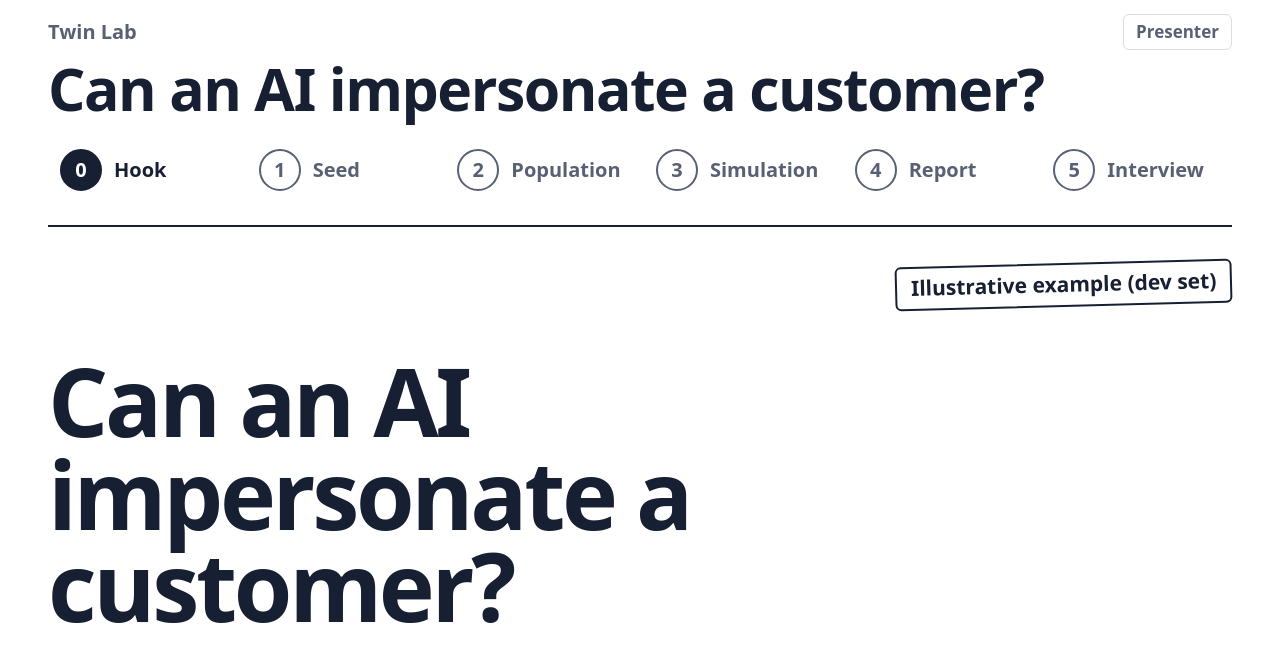
Test case: Step 1 Seed › says when there is no data and disables building
The width and height of the screenshot is (1280, 660).
Click the button "1 Seed" at (342, 170), box [247,139,437,201]
(page scrolled)
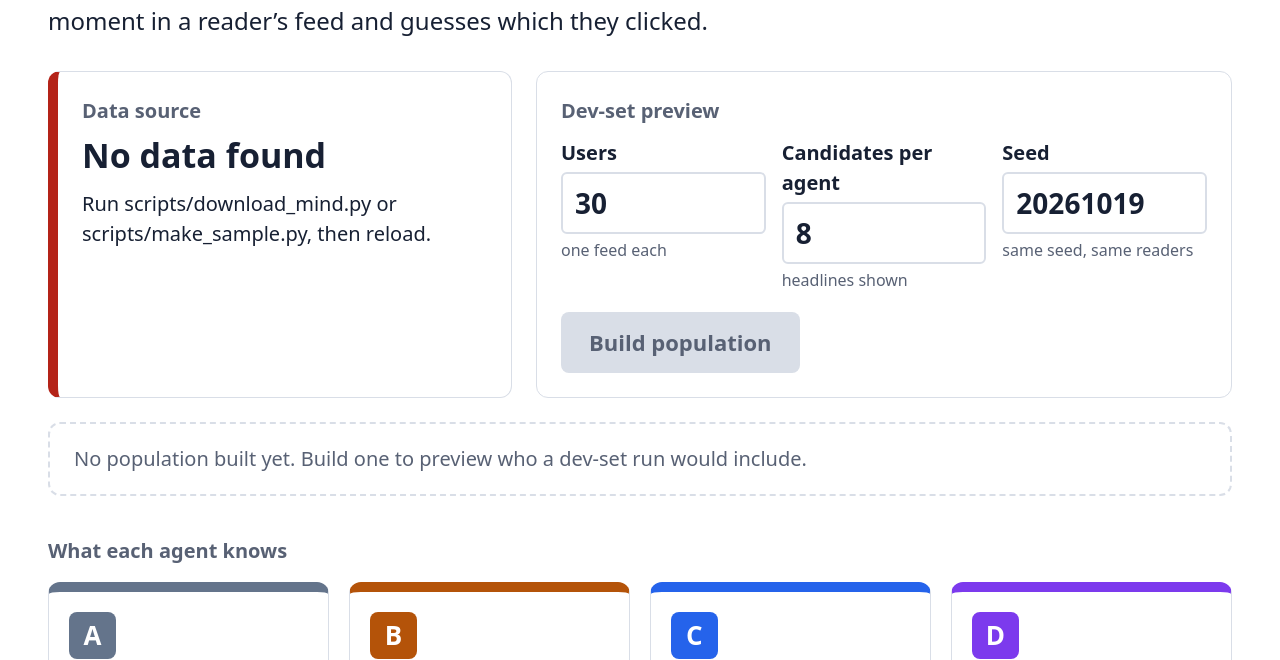
Check: the text "No data found" is shown, box [82,132,326,178]
Check: the button "Build population" is disabled, box [561,312,800,373]
